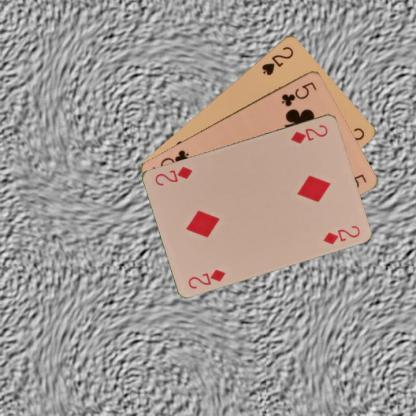2d: (186, 266, 228, 290), (288, 122, 330, 145)
2s: (259, 43, 295, 77)
5c: (278, 79, 318, 108)
